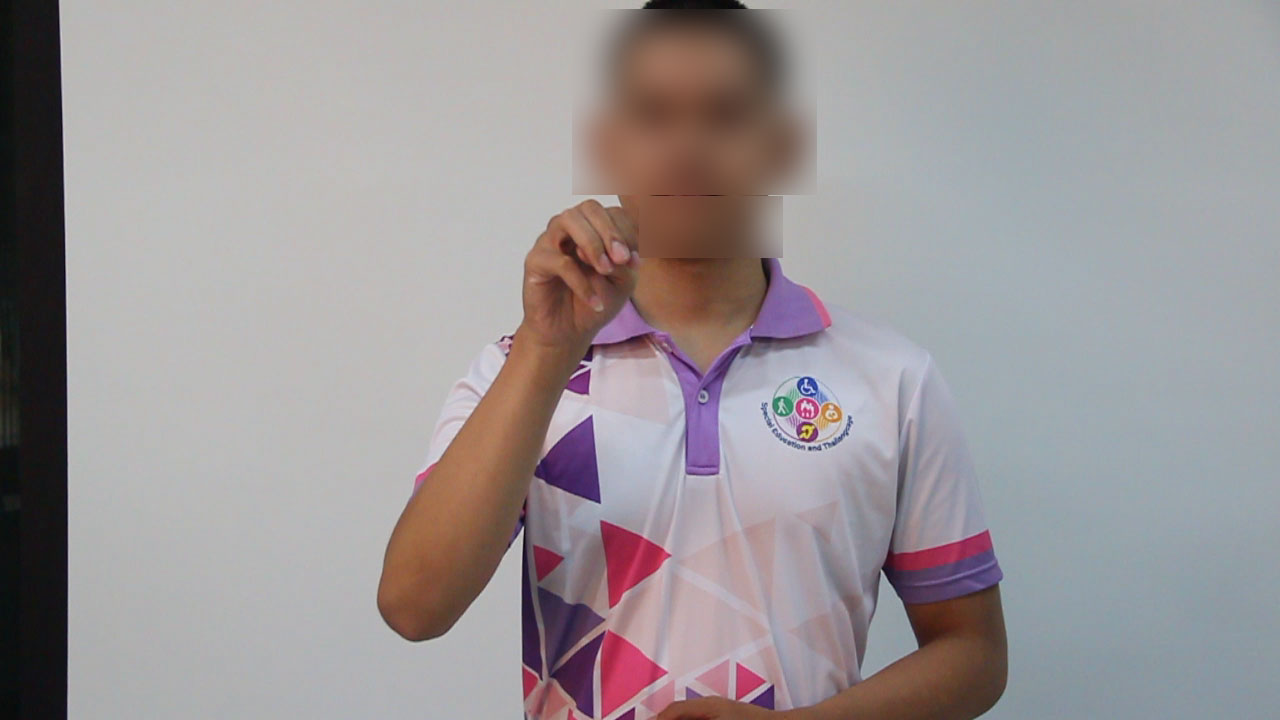mor: (512, 180, 650, 354)
